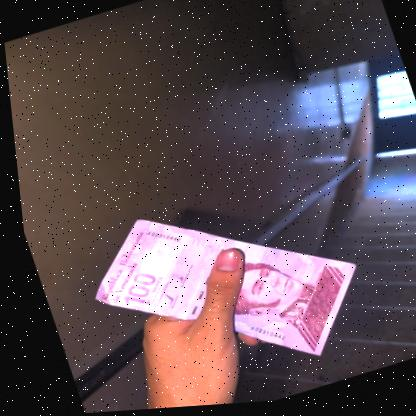one_hundred-front-vef: (62, 163, 378, 414)
